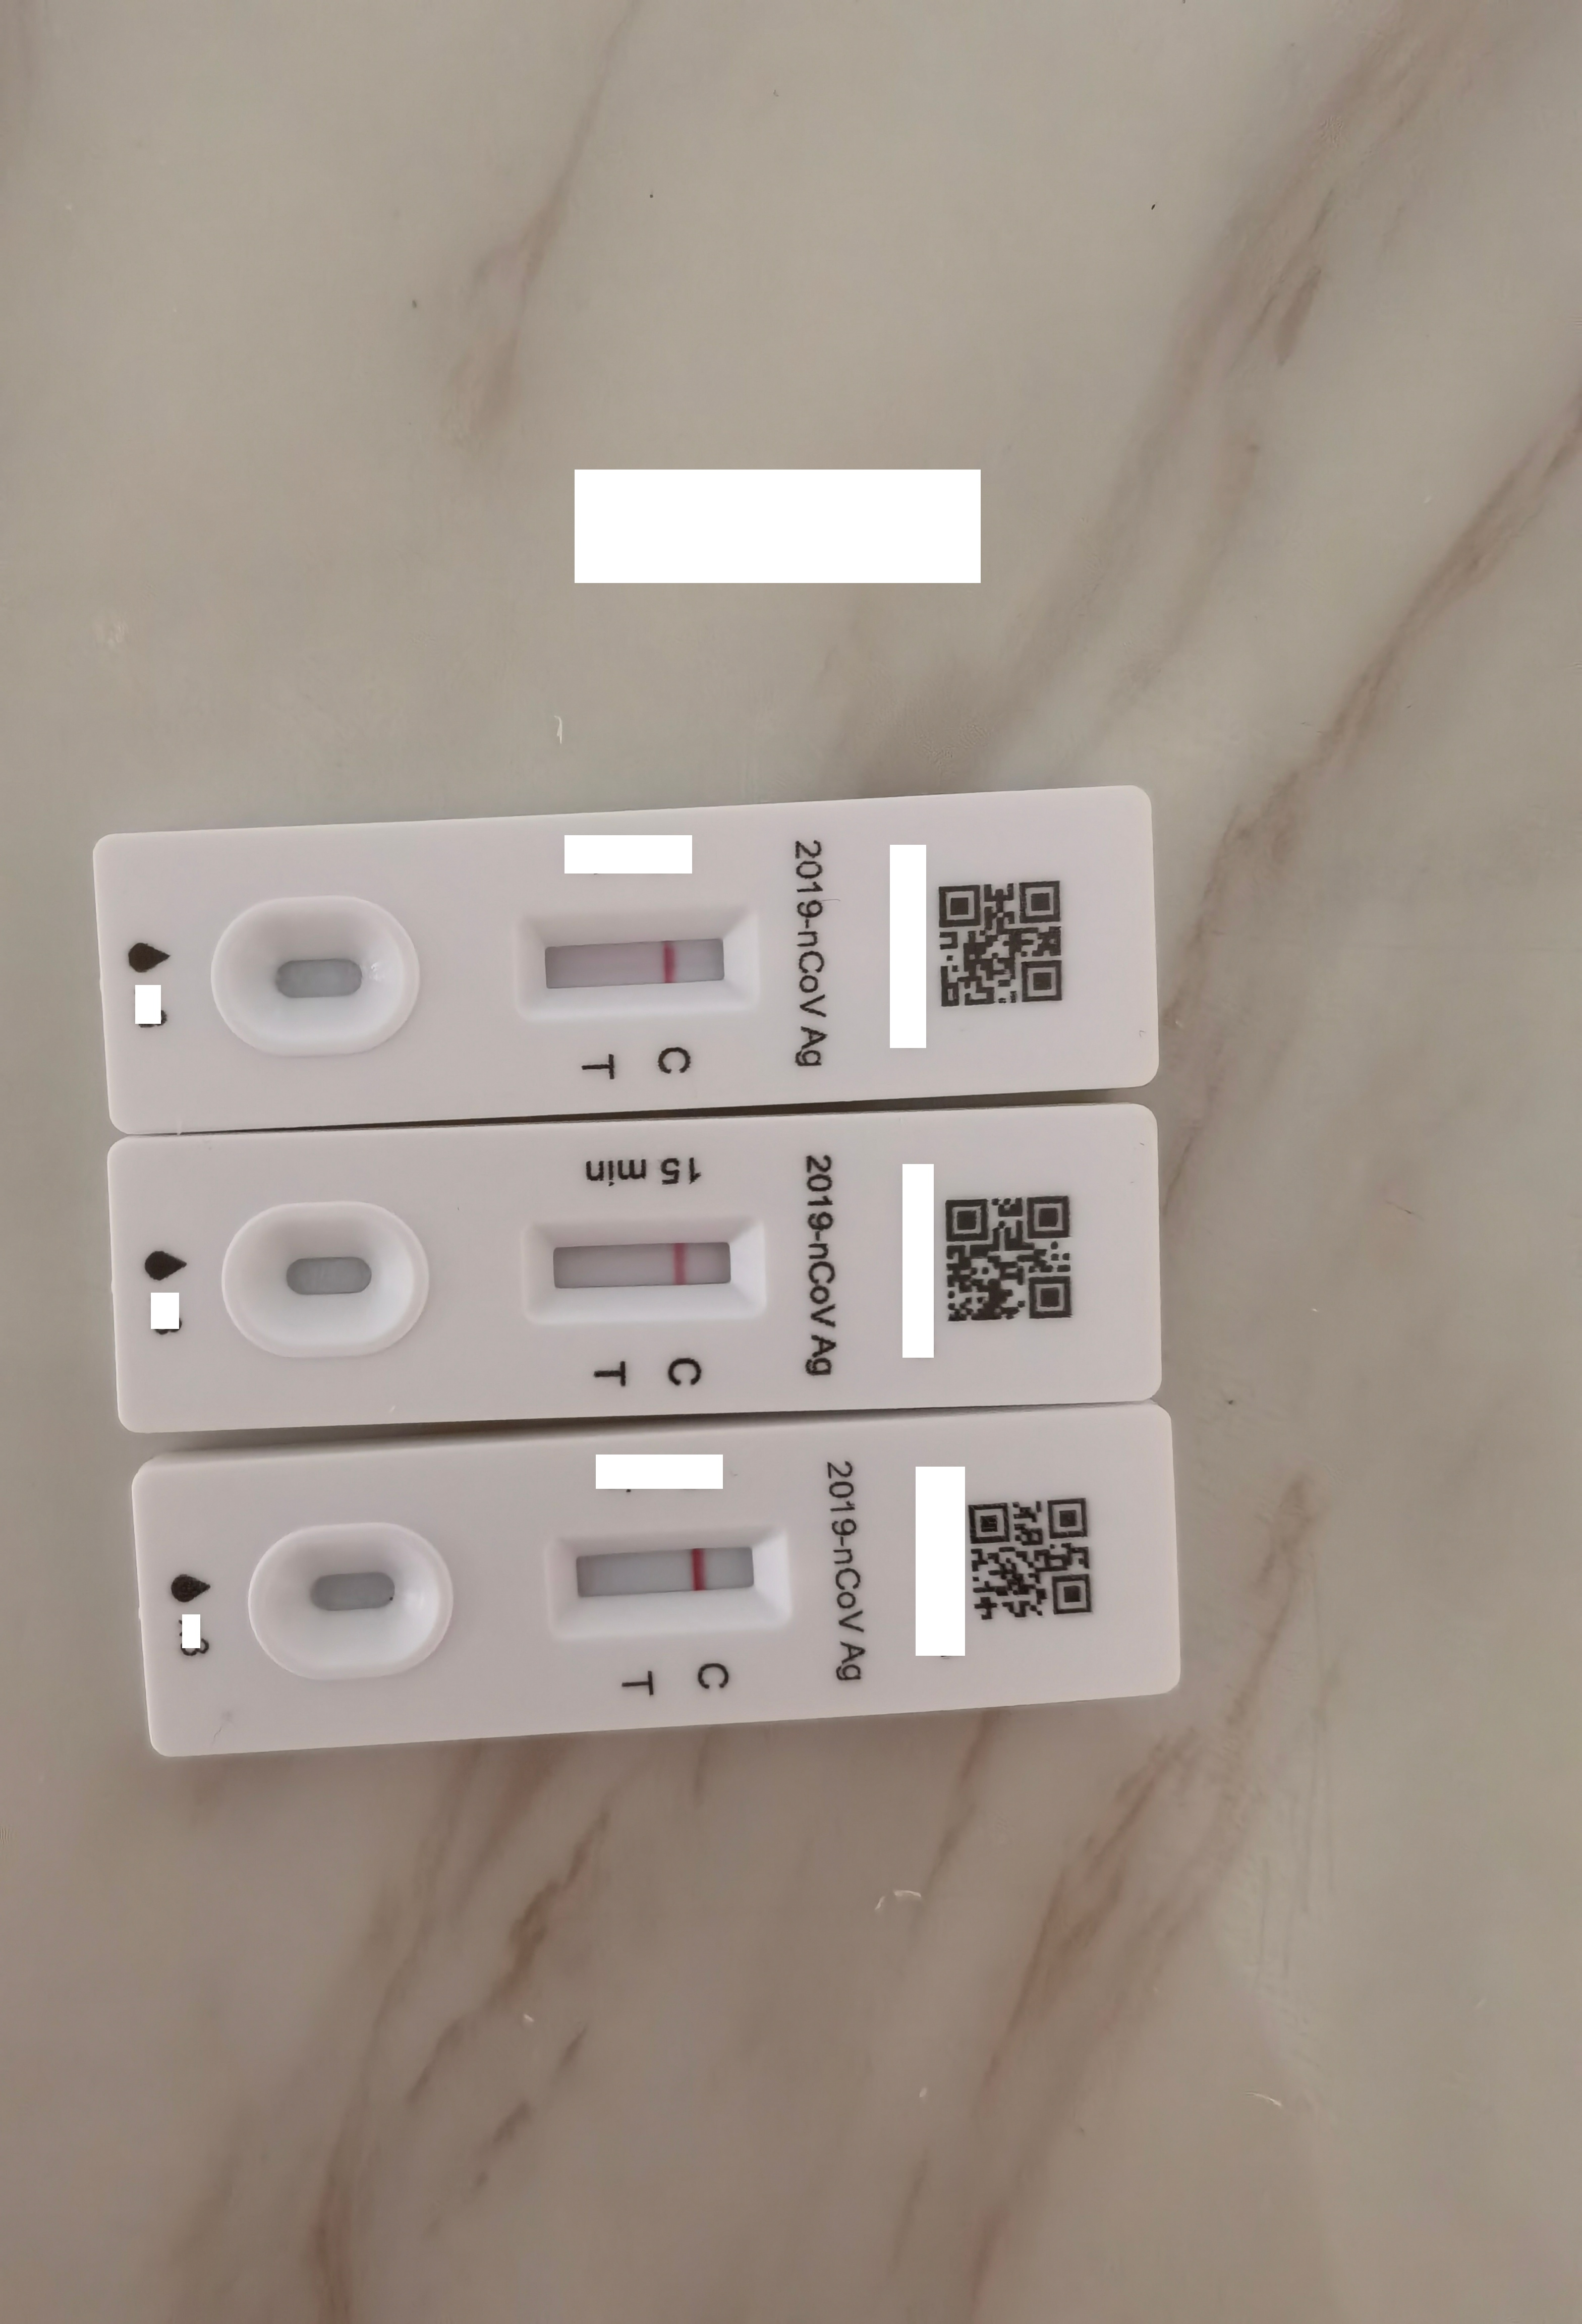negative: (551, 1523, 787, 1634), (516, 909, 761, 1011), (524, 1221, 765, 1318)
